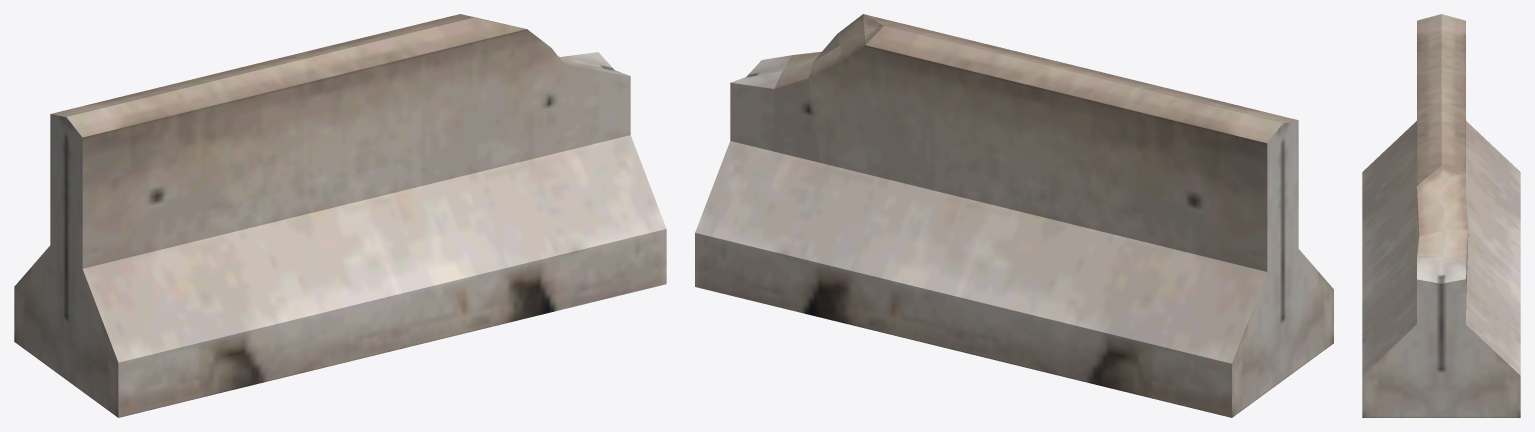
The model's file is Urban_JerseyBarrierBrokenEdge_Model.fbx.
3 renders of one model, left to right at view 1: azimuth 30°, elevation 25°; view 2: azimuth 150°, elevation 25°; view 3: azimuth 270°, elevation 25°, orthographic. The views are drawn at different scales.
Parts seen in each view (by area): view 1: Urban_JerseyBarrierBrokenEdge_Mesh; view 2: Urban_JerseyBarrierBrokenEdge_Mesh; view 3: Urban_JerseyBarrierBrokenEdge_Mesh.
Boxes of the visible parts, <box> form: Urban_JerseyBarrierBrokenEdge_Mesh: <box>14,14,666,417</box>; Urban_JerseyBarrierBrokenEdge_Mesh: <box>695,14,1333,417</box>; Urban_JerseyBarrierBrokenEdge_Mesh: <box>1362,14,1520,417</box>.
Bounding box in the file's own units: 2.48 × 1.14 × 0.8144.
